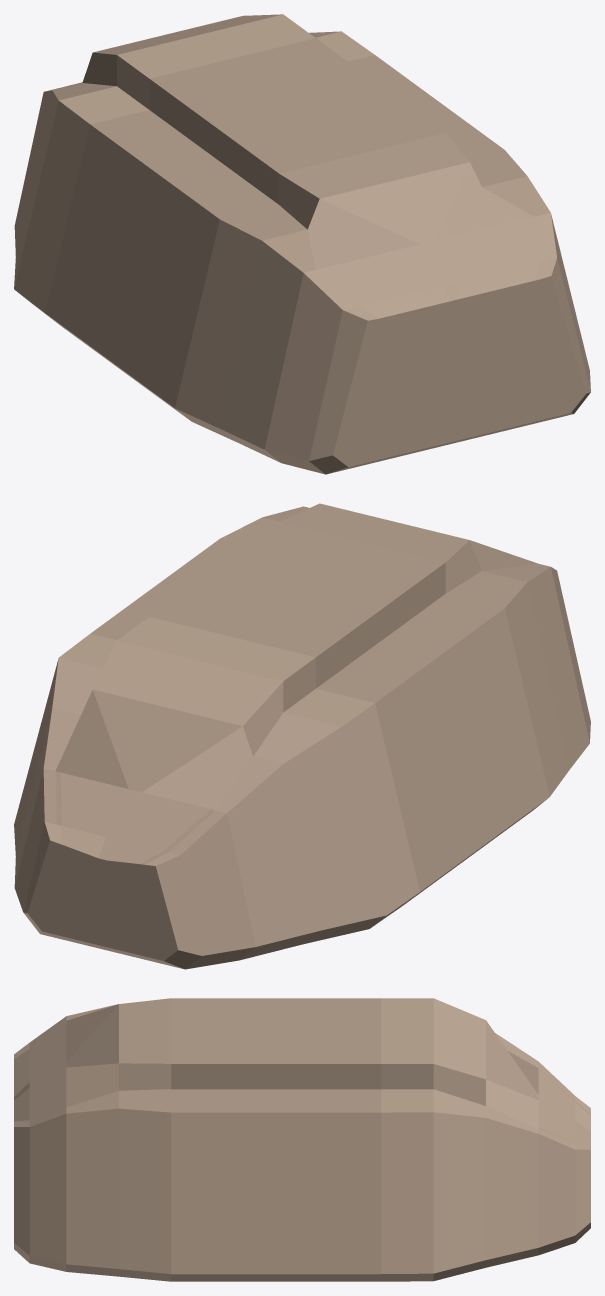
File: orrin_medium_a.glb
The picture shows the model from 3 angles, top to bottom: view 1: azimuth 30°, elevation 25°; view 2: azimuth 150°, elevation 25°; view 3: azimuth 270°, elevation 25°; orthographic projection. The views are drawn at different scales.
Visible parts, largest first — view 1: orrin_medium_a; view 2: orrin_medium_a; view 3: orrin_medium_a.
Part boxes in pixels (<box>): orrin_medium_a: <box>14,14,590,474</box>; orrin_medium_a: <box>14,503,590,969</box>; orrin_medium_a: <box>14,998,590,1281</box>.
Size of the model in its own units: 3.7 by 2.14 by 6.1.
